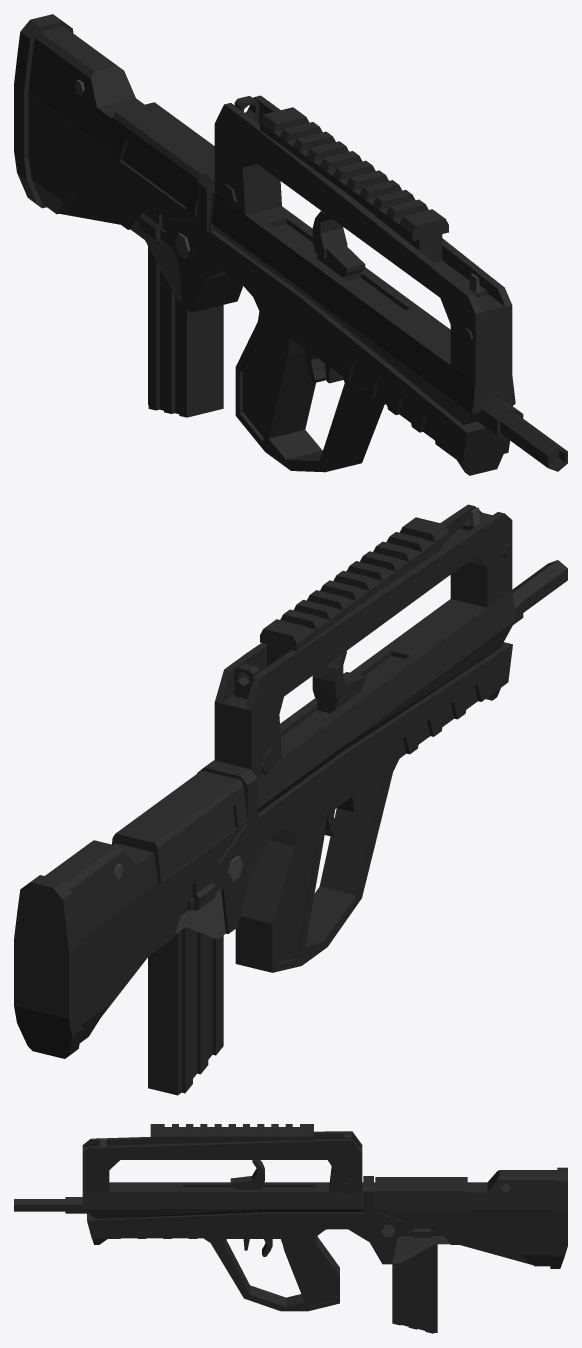
The picture shows the model from 3 angles, top to bottom: view 1: azimuth 30°, elevation 25°; view 2: azimuth 150°, elevation 25°; view 3: azimuth 270°, elevation 25°; orthographic projection. The views are drawn at different scales.
Parts seen in each view (by area): view 1: AR_E_Receiver, AR_E_Mag, AR_E_Rail, AR_E_Barrel, AR_E_Bolt; view 2: AR_E_Receiver, AR_E_Mag, AR_E_Rail, AR_E_Bolt, AR_E_Barrel; view 3: AR_E_Receiver, AR_E_Mag, AR_E_Rail, AR_E_Barrel, AR_E_Bolt.
Boxes of the visible parts, x1,y1,x2,y2 form: AR_E_Receiver: [14, 14, 515, 475]; AR_E_Mag: [148, 246, 223, 417]; AR_E_Rail: [260, 107, 448, 262]; AR_E_Barrel: [474, 397, 567, 471]; AR_E_Bolt: [312, 211, 365, 280]; AR_E_Receiver: [14, 504, 515, 1058]; AR_E_Mag: [148, 927, 223, 1095]; AR_E_Rail: [260, 517, 448, 666]; AR_E_Bolt: [312, 651, 365, 713]; AR_E_Barrel: [512, 560, 567, 624]; AR_E_Receiver: [82, 1131, 567, 1311]; AR_E_Mag: [392, 1244, 437, 1333]; AR_E_Rail: [150, 1124, 313, 1144]; AR_E_Barrel: [14, 1197, 88, 1213]; AR_E_Bolt: [230, 1160, 264, 1189].
Size of the model in its own units: 0.26 by 1.56 by 3.9.
